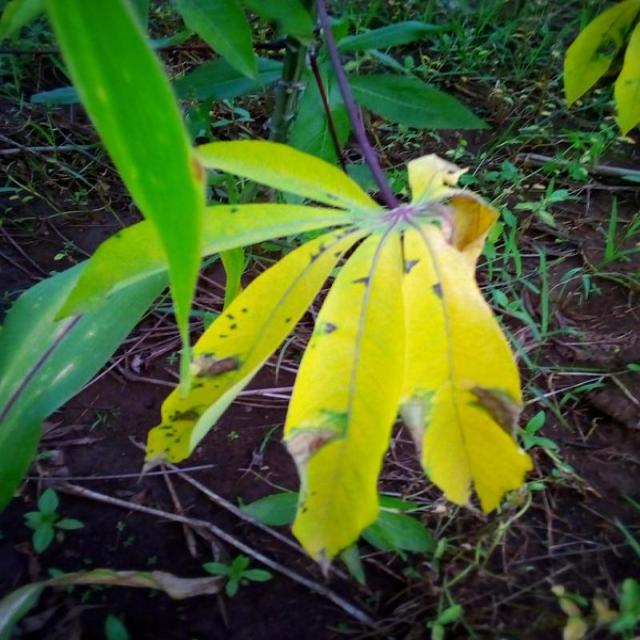cassava leaf: (140, 134, 531, 568), (42, 0, 205, 390)
